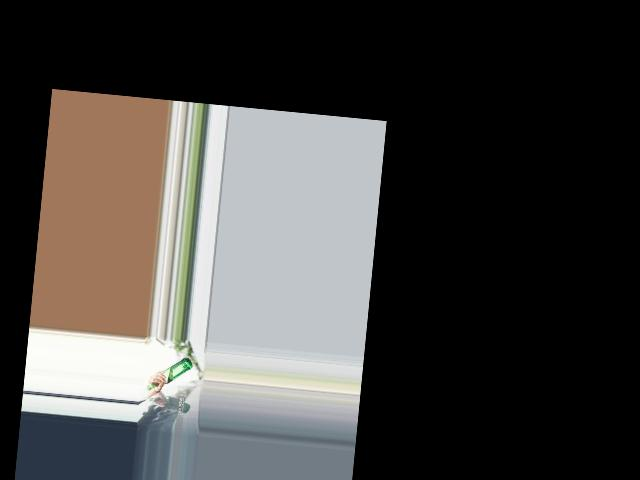beer: (147, 354, 193, 395)
